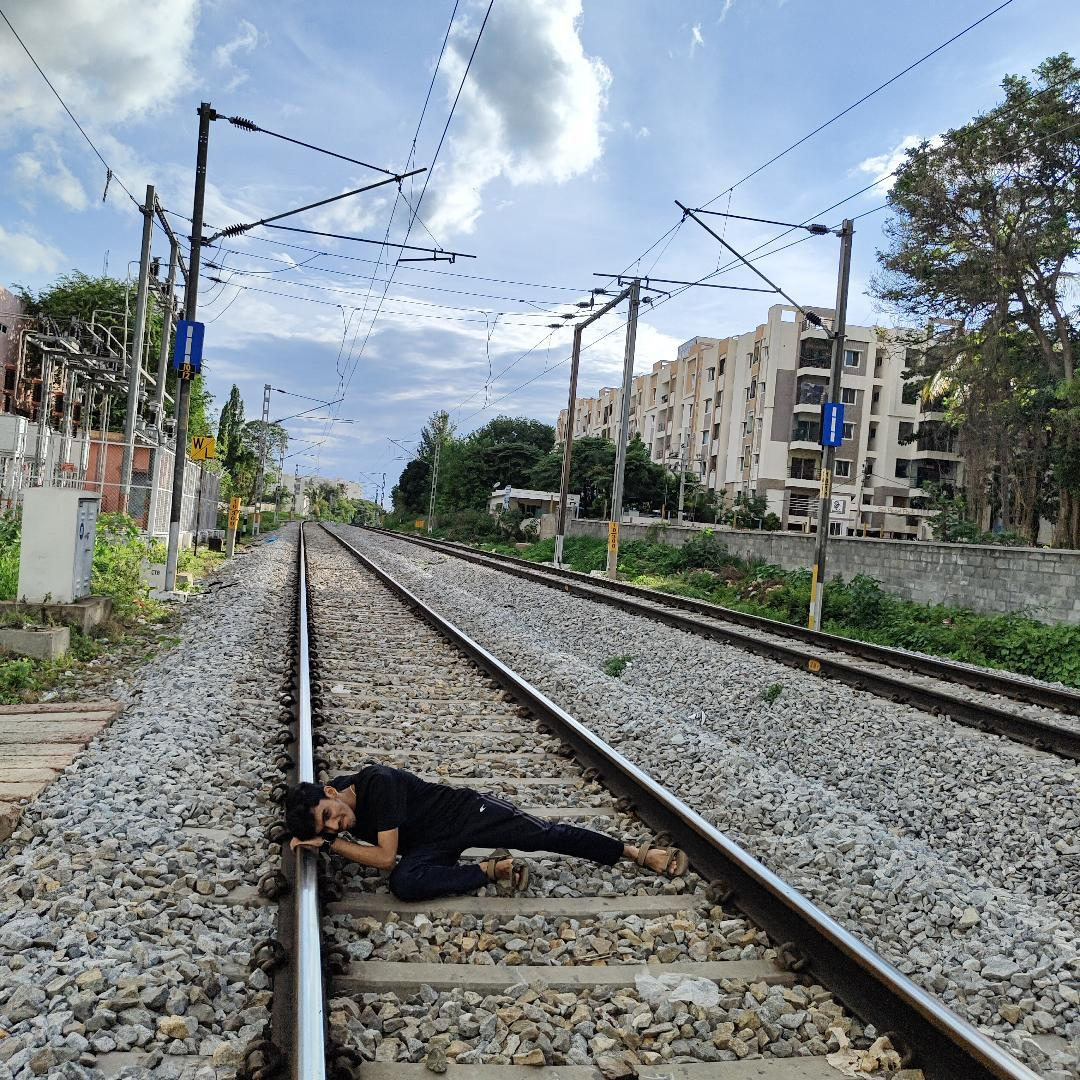sleeping: (267, 746, 693, 907)
